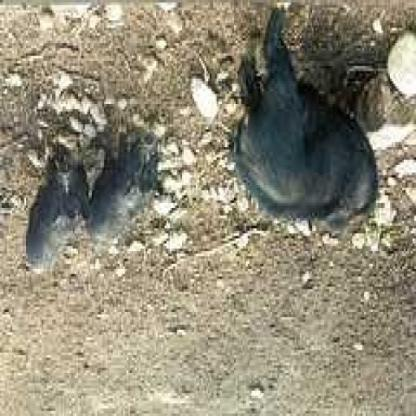boar: (219, 1, 394, 281), (80, 109, 194, 256), (19, 125, 96, 275)
